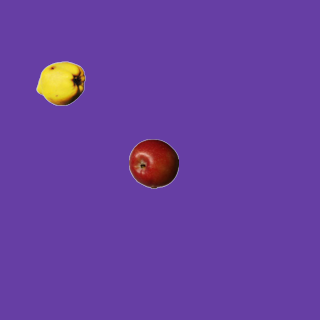Apple Braeburn: (128, 138, 178, 188)
Quince: (35, 58, 85, 108)
